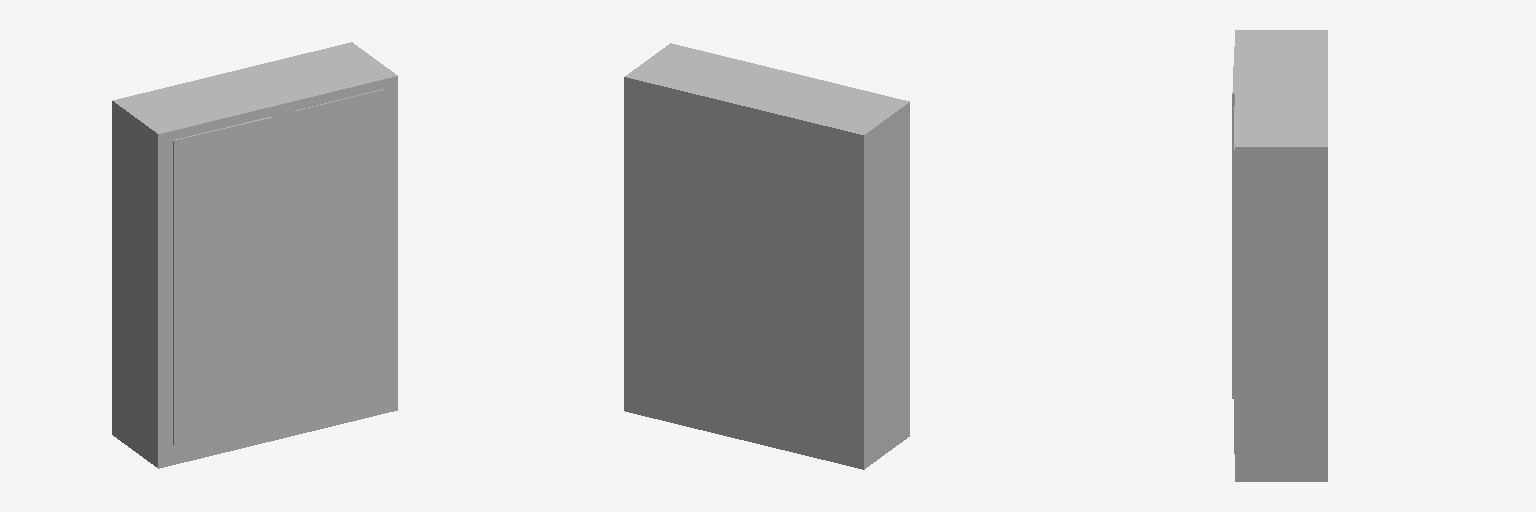
The model's file is Cabinet.obj.
The picture shows the model from 3 angles: view 1: azimuth 30°, elevation 25°; view 2: azimuth 150°, elevation 25°; view 3: azimuth 270°, elevation 25°; orthographic projection.
Visible parts, largest first — view 1: polySurface1 pCube1, pCube1 polySurface2, pCube1 polySurface3; view 2: polySurface1 pCube1; view 3: polySurface1 pCube1, pCube1 polySurface2.
Part boxes in pixels (bbox=[...]): polySurface1 pCube1: bbox=[112, 42, 397, 468]; pCube1 polySurface2: bbox=[173, 117, 271, 444]; pCube1 polySurface3: bbox=[294, 89, 384, 415]; polySurface1 pCube1: bbox=[624, 43, 909, 469]; polySurface1 pCube1: bbox=[1235, 30, 1327, 481]; pCube1 polySurface2: bbox=[1232, 47, 1234, 398].
Bounding box in the file's own units: 6 × 8 × 2.06.